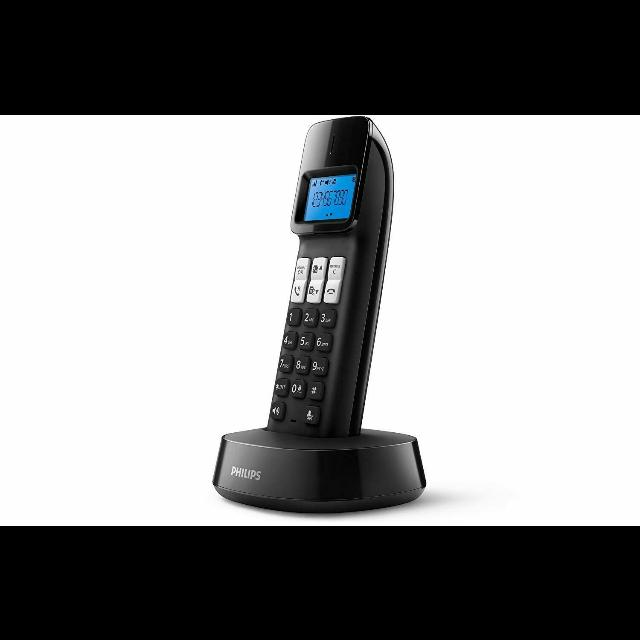Telephone-Set: (193, 121, 452, 502)
